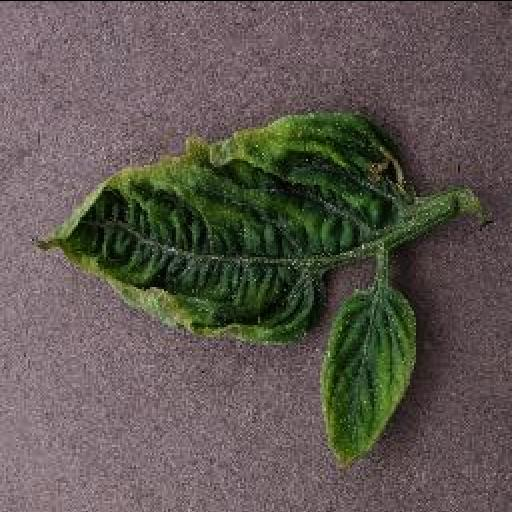disease_tomato: (34, 110, 412, 340), (316, 282, 418, 464)
